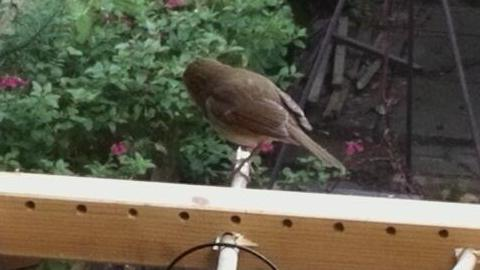robin: (174, 58, 346, 173)
